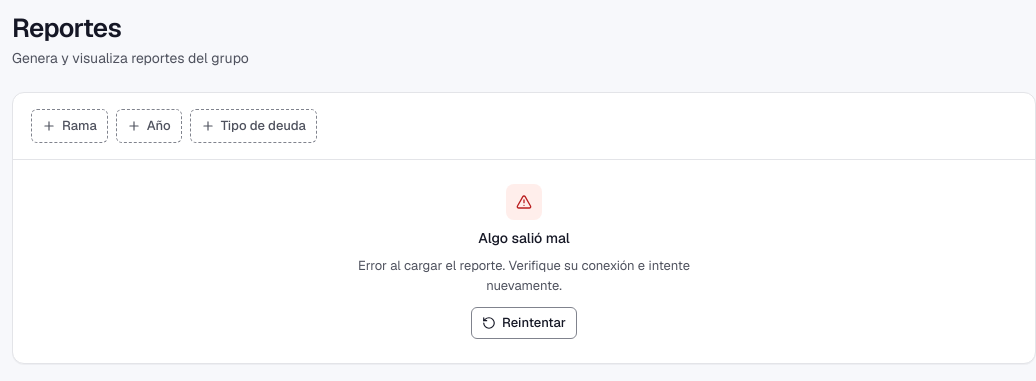
it: <DeudasView> › vacío y error con reintento
This screenshot has width=1036, height=381.
Check: the text "Error al cargar el reporte" is shown, box [358,257,690,294]
Click the button "Reintentar" at (524, 323), box [471,307,577,339]
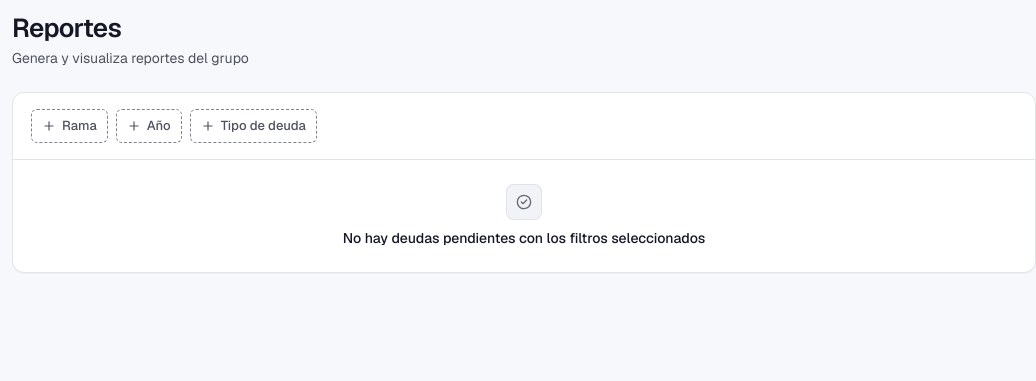
Check: the text "No hay deudas pendientes con los filtros seleccionados" is shown, box [343,228,705,248]
